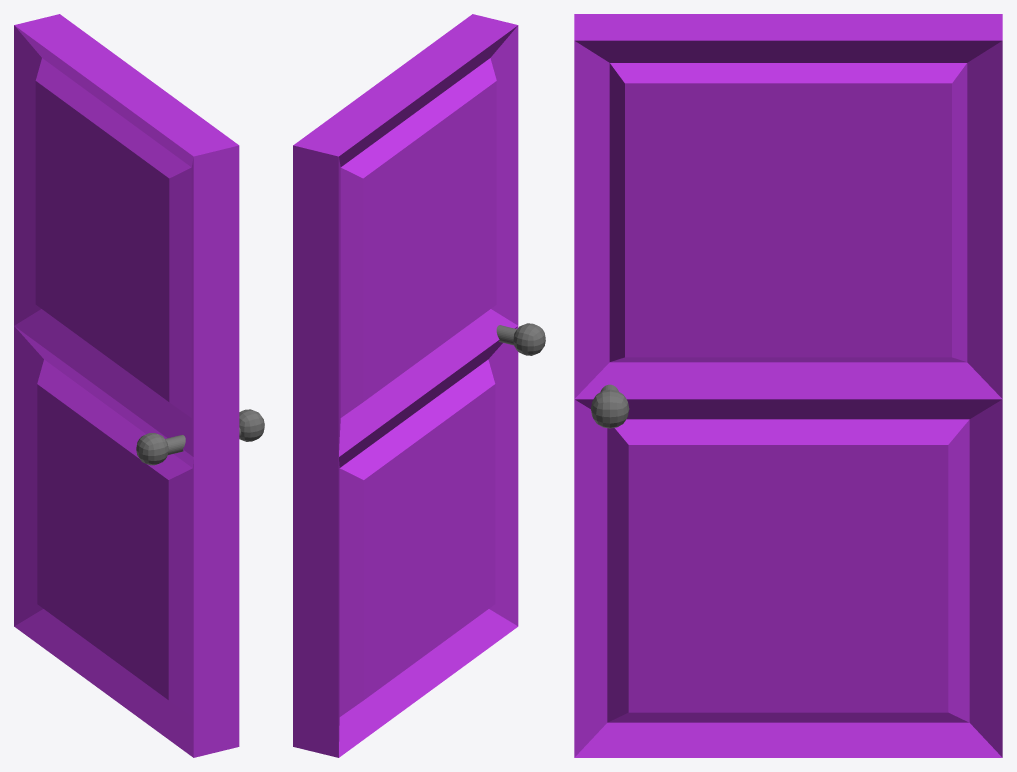
The model's file is Door.fbx.
The picture shows the model from 3 angles, left to right: view 1: azimuth 30°, elevation 25°; view 2: azimuth 150°, elevation 25°; view 3: azimuth 270°, elevation 25°; orthographic projection. The views are drawn at different scales.
Parts seen in each view (by area): view 1: Cube.006; view 2: Cube.006; view 3: Cube.006.
Boxes of the visible parts, x1=… form: Cube.006: x1=14, y1=14, x2=264, y2=757; Cube.006: x1=293, y1=14, x2=545, y2=757; Cube.006: x1=574, y1=14, x2=1002, y2=757.
Bounding box in the file's own units: 120 × 557 × 301.
